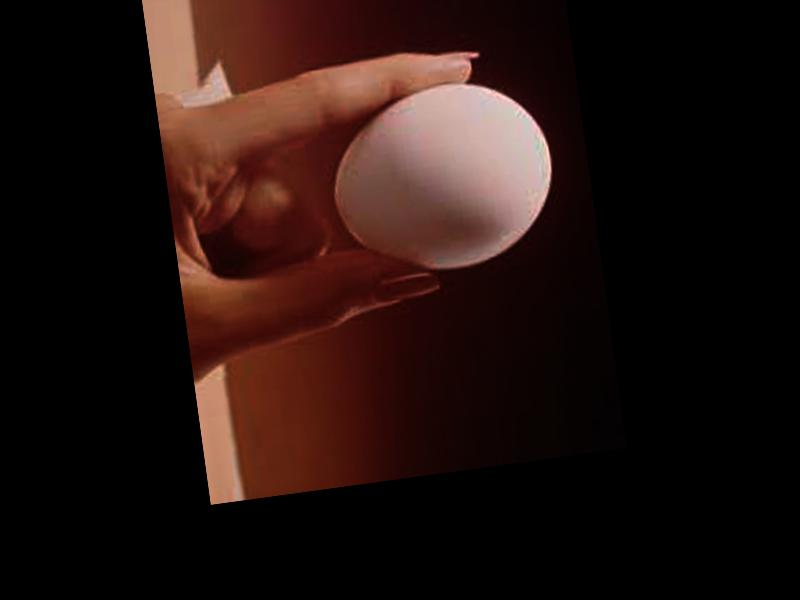Eggs: (318, 72, 563, 287)
